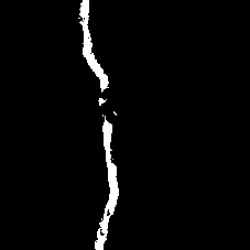crack: (96, 117, 120, 248), (79, 1, 109, 91), (99, 99, 104, 107)
pinhole: (113, 112, 117, 117)
